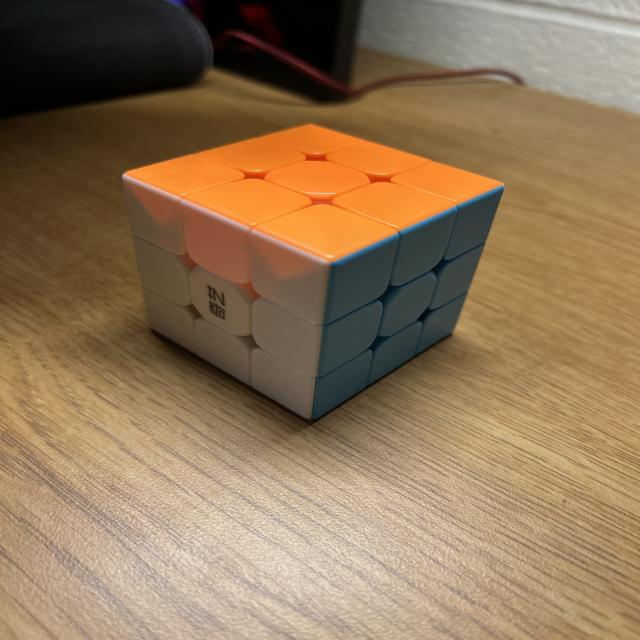Rubiks Cube: (121, 121, 507, 422)
